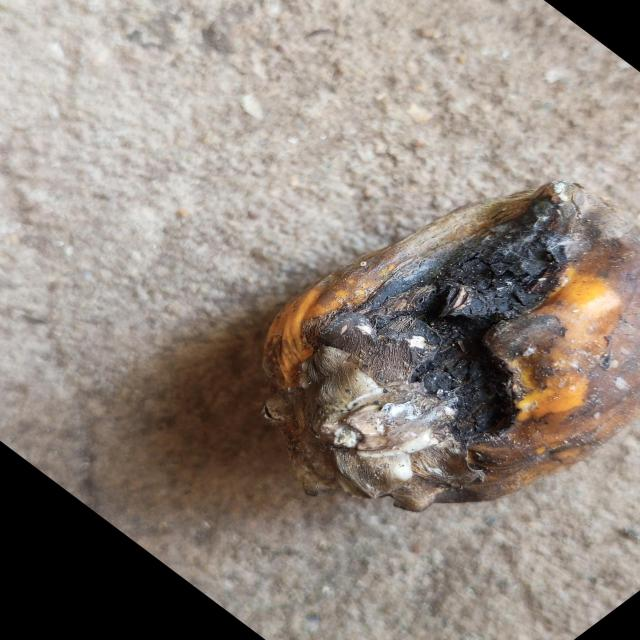damaged: (263, 182, 640, 510)
